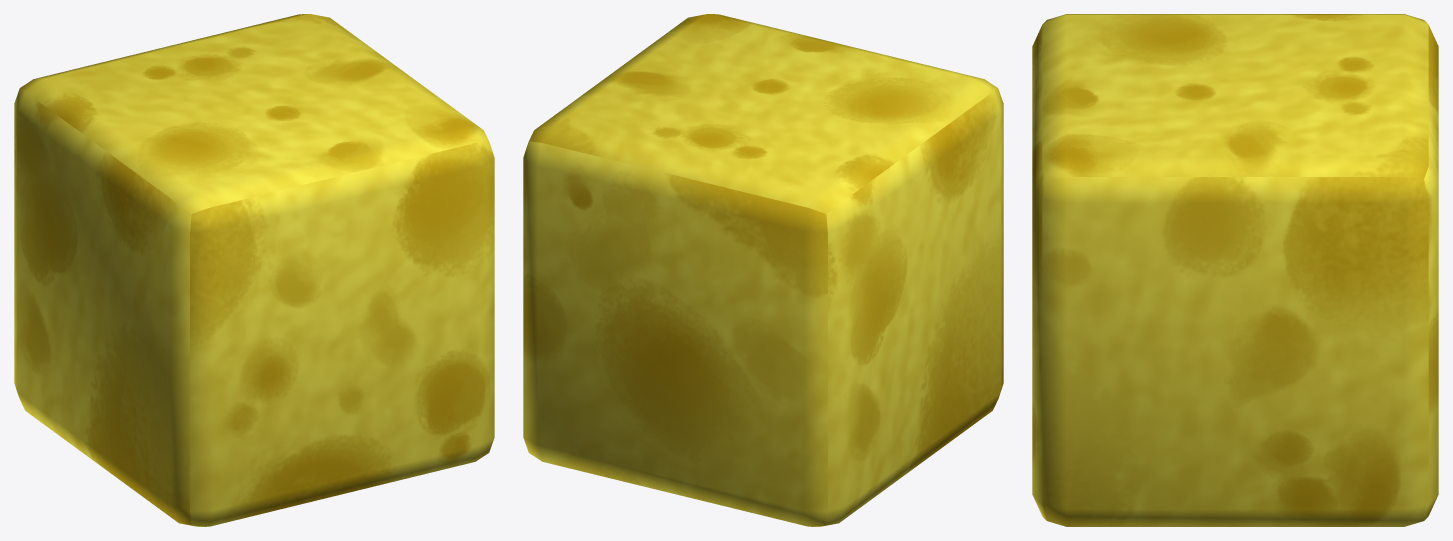
File: spongesquare3.fbx
3 views of the same model, side by side, from view 1: azimuth 30°, elevation 25°; view 2: azimuth 150°, elevation 25°; view 3: azimuth 270°, elevation 25° (orthographic). The views are drawn at different scales.
Parts seen in each view (by area): view 1: Cube; view 2: Cube; view 3: Cube.
Part boxes in pixels (box(x1,y1,x2,y2)): Cube: box(14, 14, 494, 526); Cube: box(523, 14, 1003, 526); Cube: box(1032, 14, 1438, 526).
Size of the model in its own units: 200 by 200 by 200.
Materials: 1 (1 with a texture image).
